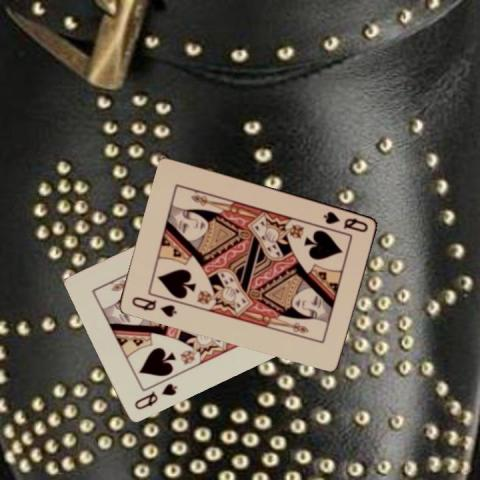Qs: (131, 380, 178, 411), (129, 293, 178, 319), (321, 208, 370, 233)
